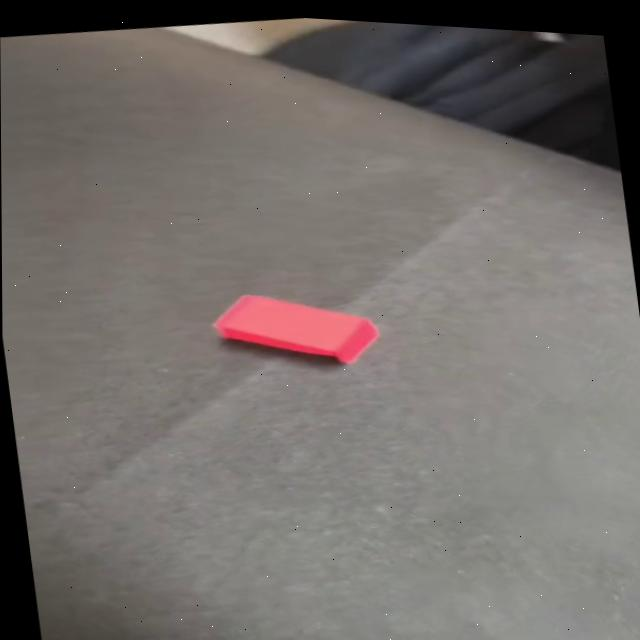red block: (206, 276, 383, 382)
